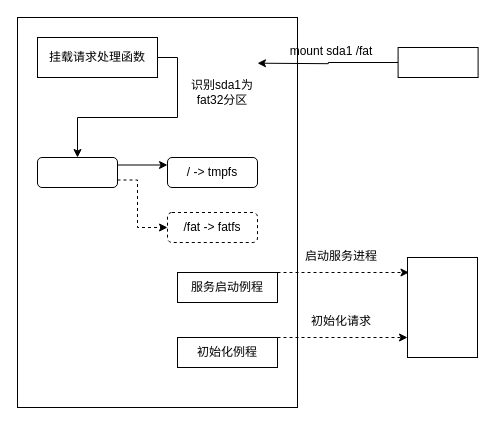
The diagram is 496 pixels wide and 425 high, and some of its shapes have lost their labels. Here are the shapes that lost their labels. From the top down, the box of each, then its label:
(397, 46, 478, 78): 应用程序
(36, 156, 118, 188): 挂载点信息
(406, 256, 478, 358): fat32 文件系统服务
